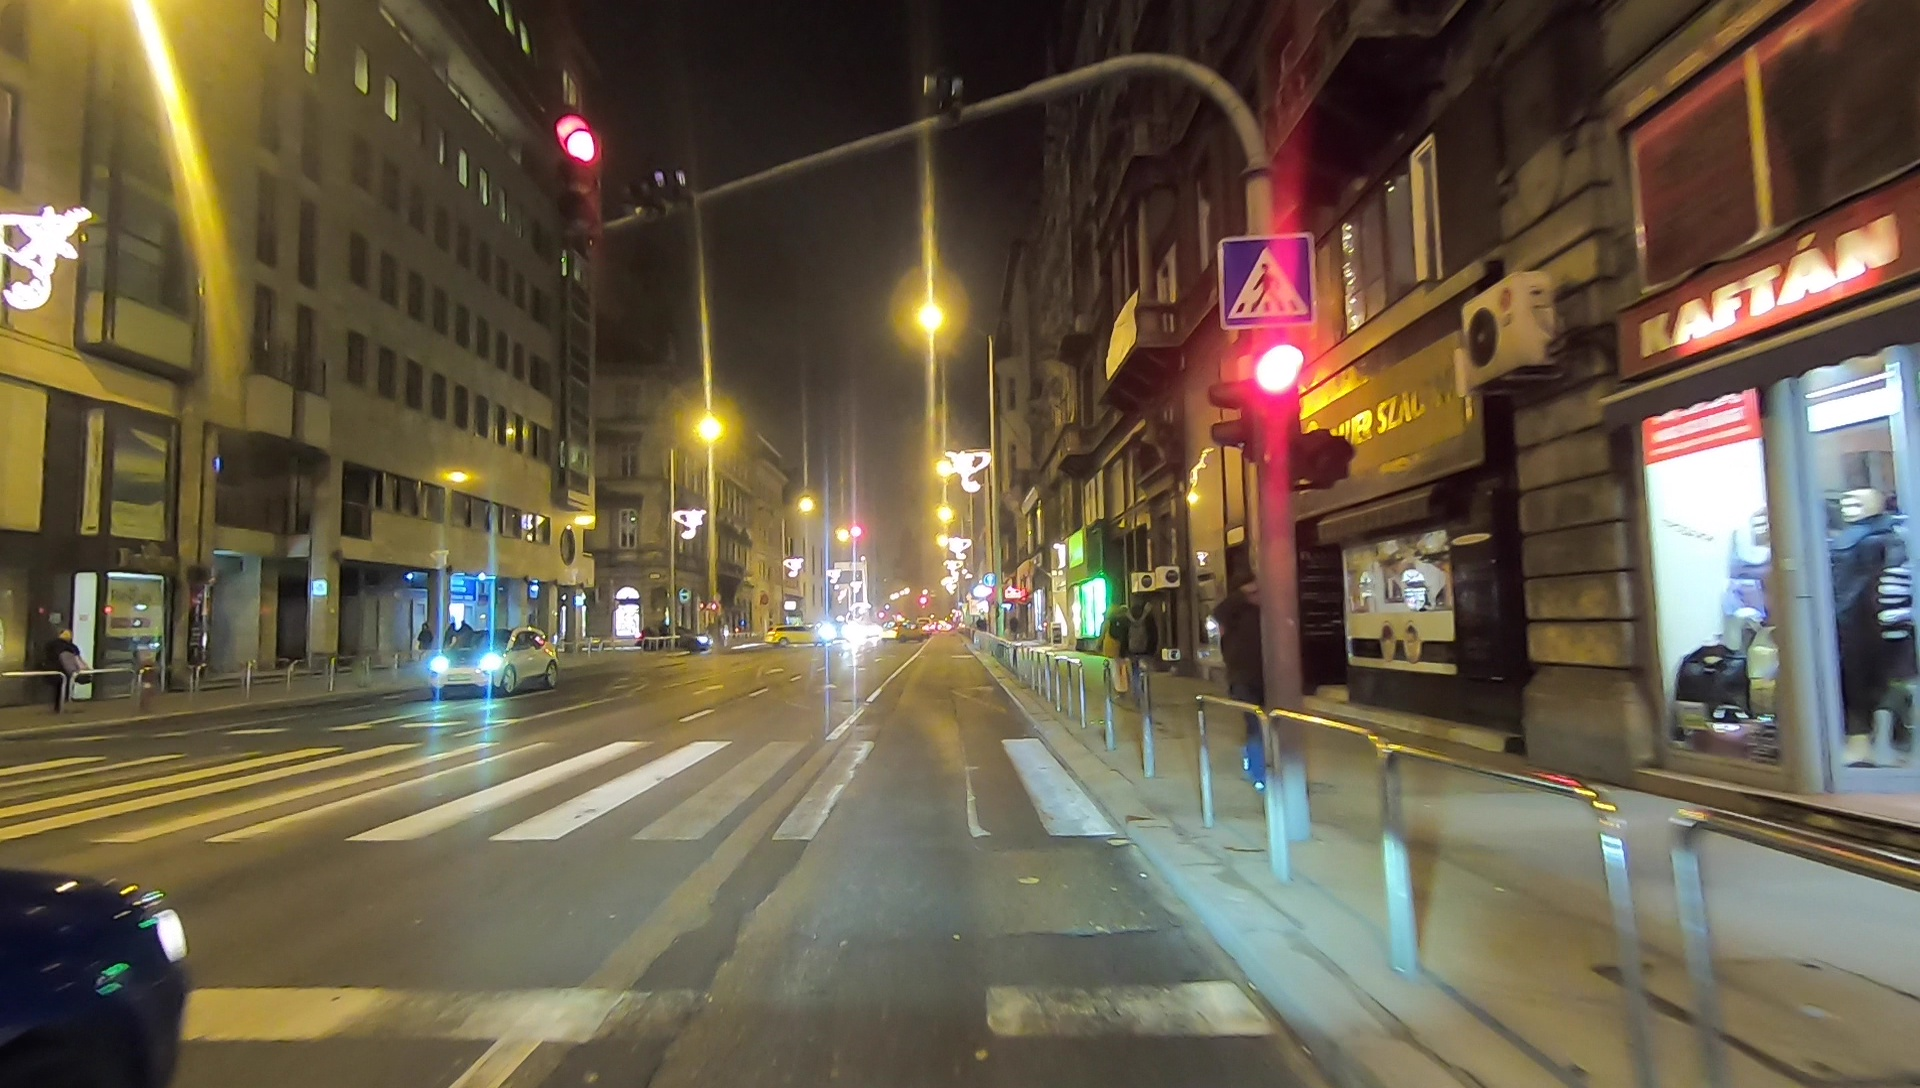person: (1217, 571, 1278, 786), (1121, 597, 1156, 702), (1102, 600, 1136, 697), (47, 626, 80, 713), (415, 623, 432, 673)
